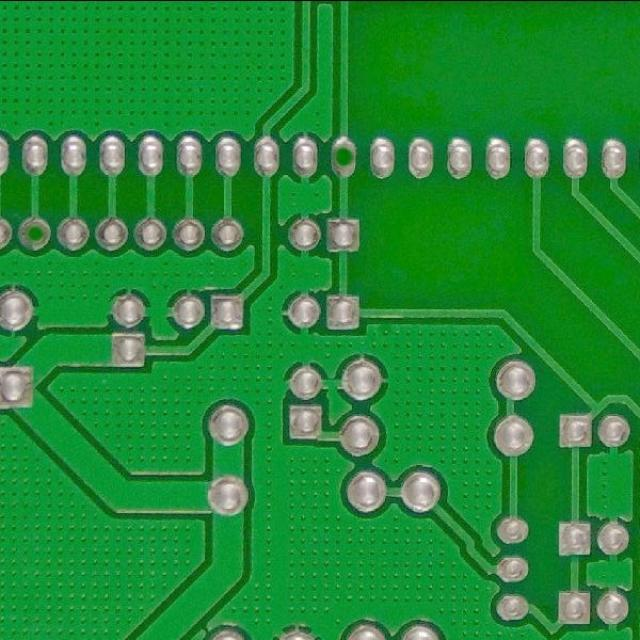missing_hole: (321, 132, 361, 179), (12, 211, 52, 255)
